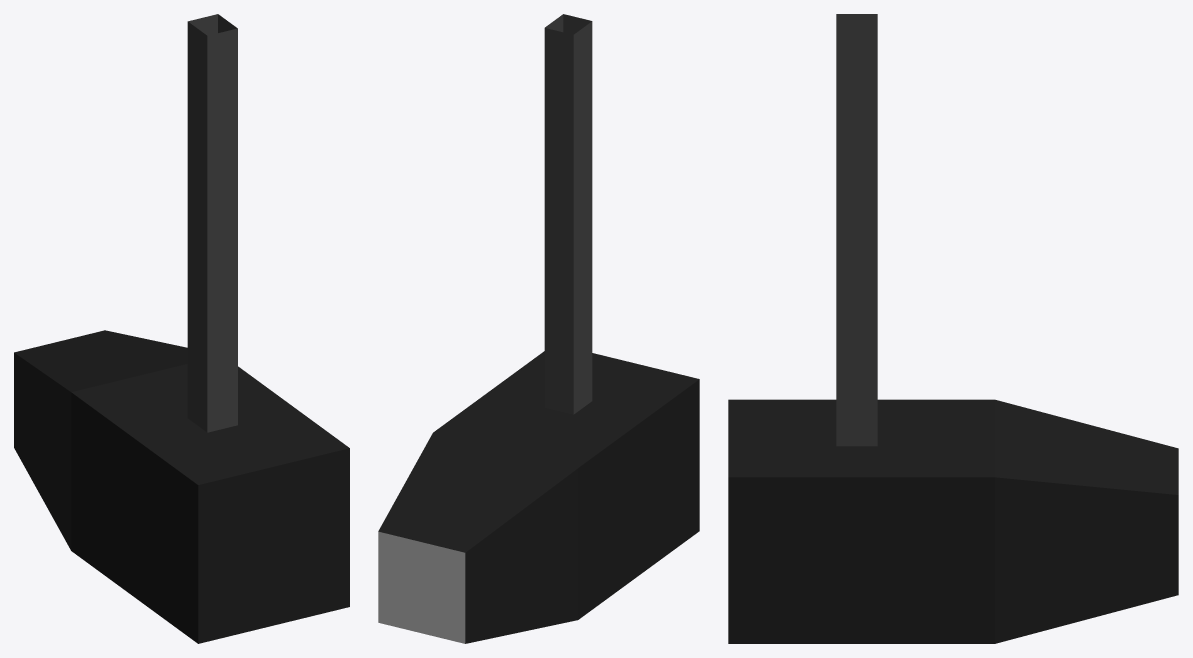
The model's file is SceneLight.fbx.
3 views of the same model, side by side, from view 1: azimuth 30°, elevation 25°; view 2: azimuth 150°, elevation 25°; view 3: azimuth 270°, elevation 25° (orthographic). The views are drawn at different scales.
Parts seen in each view (by area): view 1: SceneLight; view 2: SceneLight; view 3: SceneLight.
Part boxes in pixels (left/top/right/bottom): SceneLight: left=14, top=14, right=349, bottom=643; SceneLight: left=378, top=14, right=699, bottom=643; SceneLight: left=728, top=14, right=1178, bottom=643.
Size of the model in its own units: 20 by 70 by 49.
